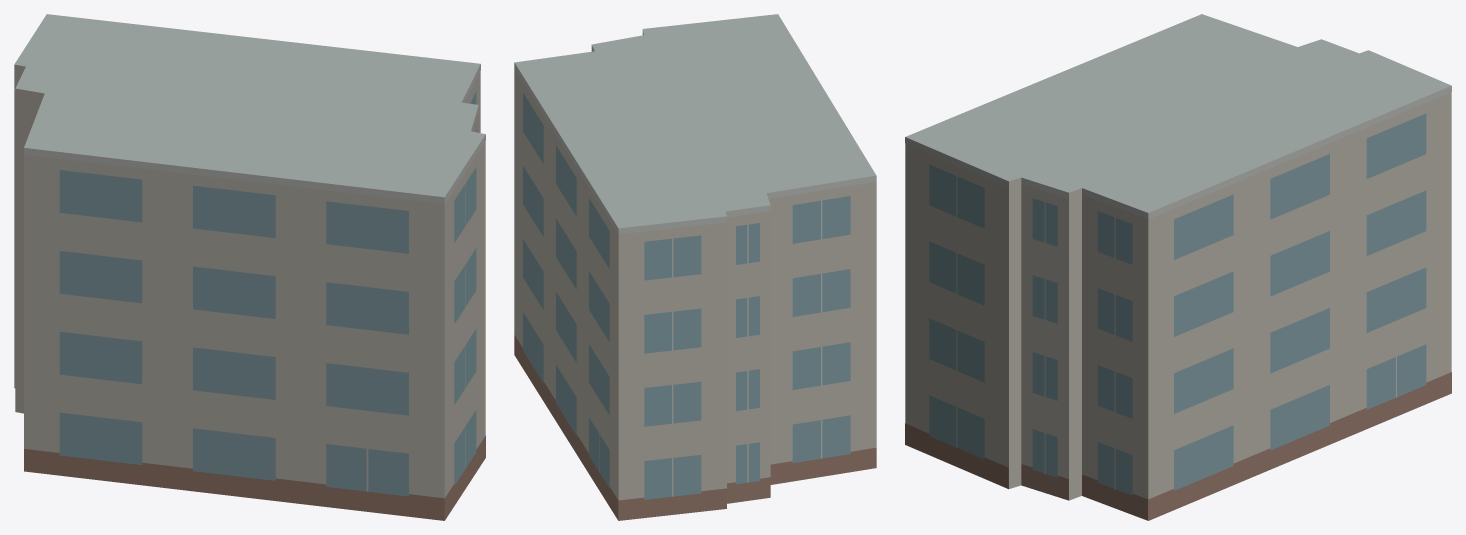
The model's file is survey-upis-32777082.glb.
3 renders of one model, left to right at view 1: azimuth 30°, elevation 25°; view 2: azimuth 150°, elevation 25°; view 3: azimuth 270°, elevation 25°, orthographic. The views are drawn at different scales.
Visible parts, largest first — view 1: survey-upis-32777082.tmp; view 2: survey-upis-32777082.tmp; view 3: survey-upis-32777082.tmp.
Boxes of the visible parts, <box> form: survey-upis-32777082.tmp: <box>14,14,485,520</box>; survey-upis-32777082.tmp: <box>514,14,876,520</box>; survey-upis-32777082.tmp: <box>905,14,1451,520</box>.
Size of the model in its own units: 16.16 by 11.65 by 18.75.
